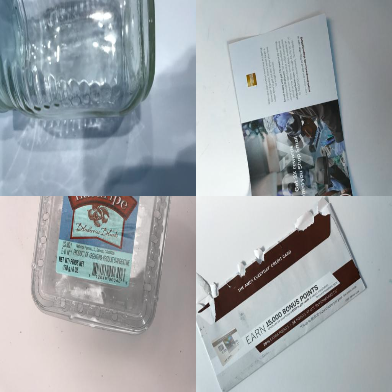glass: (1, 1, 156, 119)
paper: (196, 197, 369, 390), (227, 13, 354, 196)
plastic: (30, 195, 172, 334)
